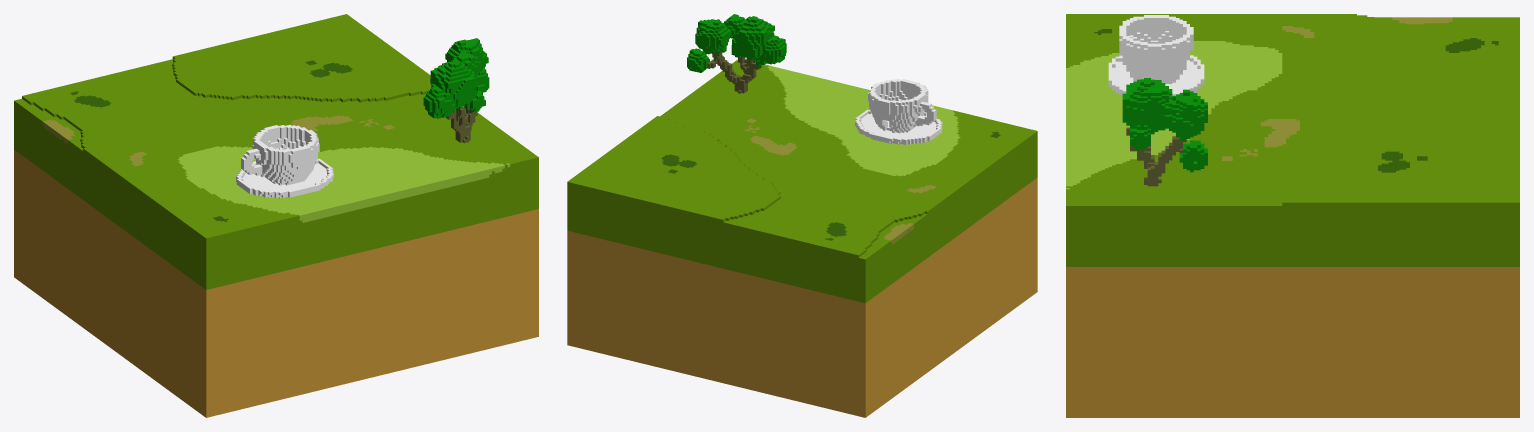
3 views of the same model, side by side, from view 1: azimuth 30°, elevation 25°; view 2: azimuth 150°, elevation 25°; view 3: azimuth 270°, elevation 25° (orthographic). The views are drawn at different scales.
Parts seen in each view (by area): view 1: 1B.001; view 2: 1B.001; view 3: 1B.001.
Part boxes in pixels (<box>): 1B.001: <box>14,14,538,417</box>; 1B.001: <box>567,14,1037,417</box>; 1B.001: <box>1066,14,1519,417</box>.
Size of the model in its own units: 12.8 by 9.7 by 12.8.
1 material, 1 textured.
